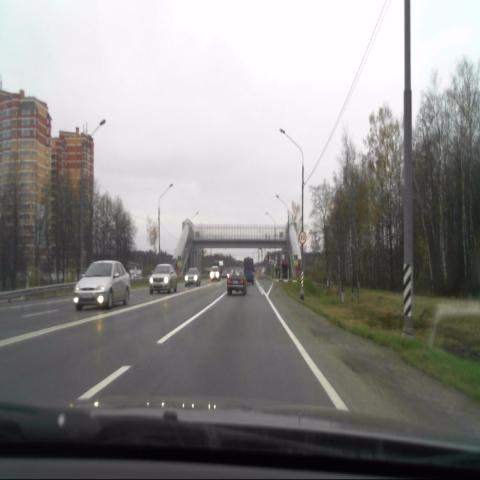3_24: (299, 231, 306, 245)
